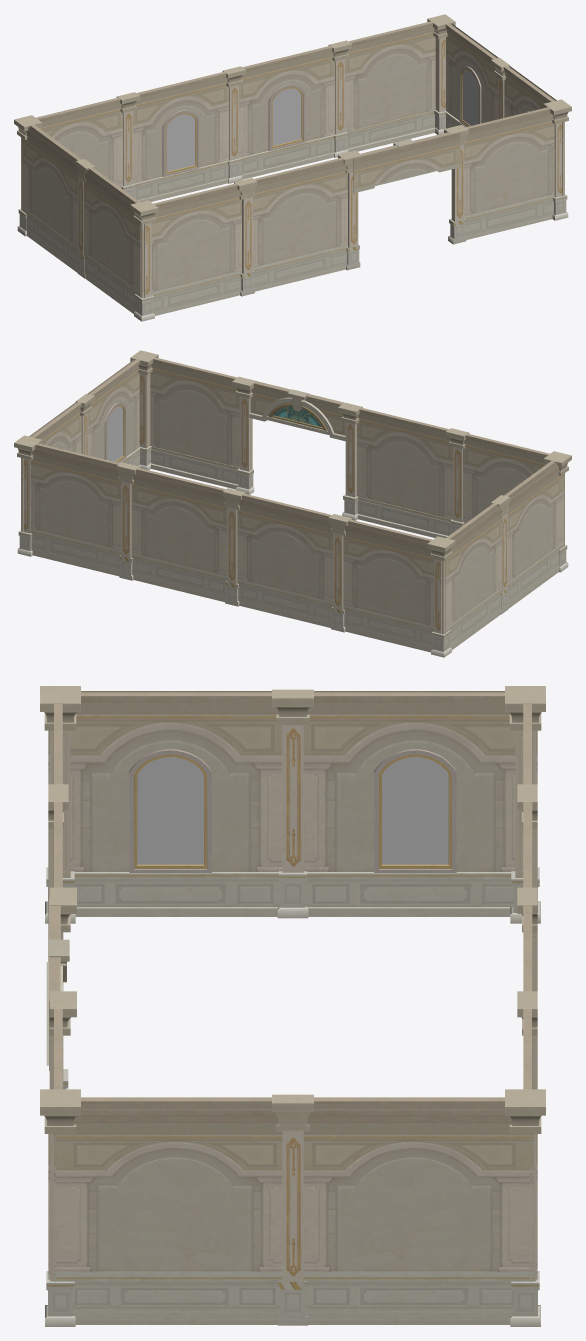
Rendered from Homeworld_Interior_Fd_Room_M_Wall_01_Vo.fbx.
3 renders of one model, top to bottom at view 1: azimuth 30°, elevation 25°; view 2: azimuth 150°, elevation 25°; view 3: azimuth 270°, elevation 25°, orthographic. The views are drawn at different scales.
Parts seen in each view (by area): view 1: Homeworld_Interior_Fd_Room_Wall_01_Vo (×5), Homeworld_Interior_Fd_Room_Wall_02_Vo (×5), Homeworld_Interior_Fd_Room_M_Filling_01_Vo, Homeworld_Interior_Fd_Room_Pillar_02_Vo (×8), Homeworld_Interior_Fd_Room_Pillar_01_Vo (×4), Homeworld_Interior_Fd_Room_Door_02_Vo; view 2: Homeworld_Interior_Fd_Room_M_Filling_01_Vo, Homeworld_Interior_Fd_Room_Wall_01_Vo (×3), Homeworld_Interior_Fd_Room_Pillar_02_Vo (×8), Homeworld_Interior_Fd_Room_Wall_02_Vo (×3), Homeworld_Interior_Fd_Room_Pillar_01_Vo (×4), Homeworld_Interior_Fd_Room_Door_02_Vo; view 3: Homeworld_Interior_Fd_Room_Wall_02_Vo (×6), Homeworld_Interior_Fd_Room_M_Filling_01_Vo, Homeworld_Interior_Fd_Room_Pillar_02_Vo (×8), Homeworld_Interior_Fd_Room_Pillar_01_Vo (×4), Homeworld_Interior_Fd_Room_Wall_01_Vo (×2), Homeworld_Interior_Fd_Room_Door_02_Vo.
Part boxes in pixels (x1,y1,x2,y2): Homeworld_Interior_Fd_Room_Wall_01_Vo (×5): (21, 21, 554, 315); Homeworld_Interior_Fd_Room_Wall_02_Vo (×5): (88, 23, 563, 298); Homeworld_Interior_Fd_Room_M_Filling_01_Vo: (22, 23, 556, 313); Homeworld_Interior_Fd_Room_Pillar_02_Vo (×8): (75, 40, 510, 296); Homeworld_Interior_Fd_Room_Pillar_01_Vo (×4): (14, 14, 571, 321); Homeworld_Interior_Fd_Room_Door_02_Vo: (353, 132, 460, 193); Homeworld_Interior_Fd_Room_M_Filling_01_Vo: (29, 359, 563, 652); Homeworld_Interior_Fd_Room_Wall_01_Vo (×3): (150, 357, 564, 546); Homeworld_Interior_Fd_Room_Pillar_02_Vo (×8): (75, 376, 510, 632); Homeworld_Interior_Fd_Room_Wall_02_Vo (×3): (22, 359, 497, 634); Homeworld_Interior_Fd_Room_Pillar_01_Vo (×4): (14, 350, 571, 657); Homeworld_Interior_Fd_Room_Door_02_Vo: (249, 381, 345, 441); Homeworld_Interior_Fd_Room_Wall_02_Vo (×6): (48, 692, 537, 1279); Homeworld_Interior_Fd_Room_M_Filling_01_Vo: (55, 691, 533, 1324); Homeworld_Interior_Fd_Room_Pillar_02_Vo (×8): (48, 689, 537, 1325); Homeworld_Interior_Fd_Room_Pillar_01_Vo (×4): (40, 686, 545, 1326); Homeworld_Interior_Fd_Room_Wall_01_Vo (×2): (54, 1009, 531, 1281); Homeworld_Interior_Fd_Room_Door_02_Vo: (46, 897, 69, 1070).
Size of what is drawn, in the model's own units: 20.35 by 5.02 by 10.34.
